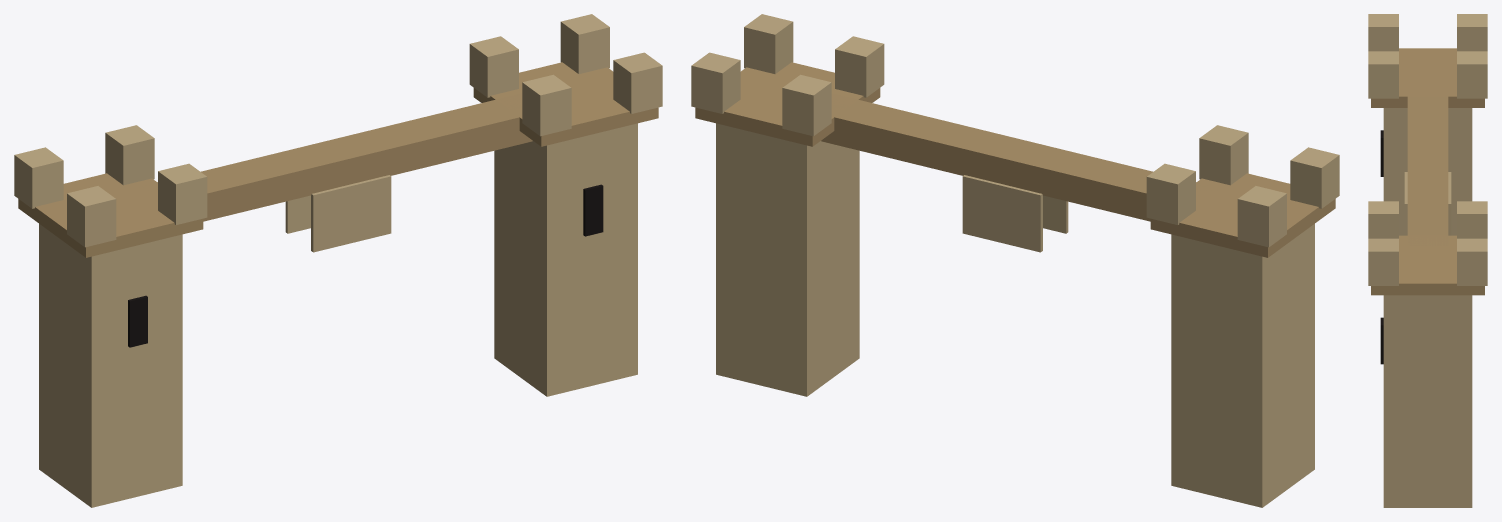
File: fennec_gate.glb
3 views of the same model, side by side, from view 1: azimuth 30°, elevation 25°; view 2: azimuth 150°, elevation 25°; view 3: azimuth 270°, elevation 25° (orthographic). The views are drawn at different scales.
Visible parts, largest first — view 1: fennec_gate; view 2: fennec_gate; view 3: fennec_gate.
Part boxes in pixels (x1,y1,x2,y2): fennec_gate: [14, 14, 662, 507]; fennec_gate: [691, 14, 1339, 507]; fennec_gate: [1368, 14, 1487, 507].
Size of the model in its own units: 4.44 by 2.29 by 0.94.
